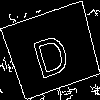D: (26, 25, 73, 79)
